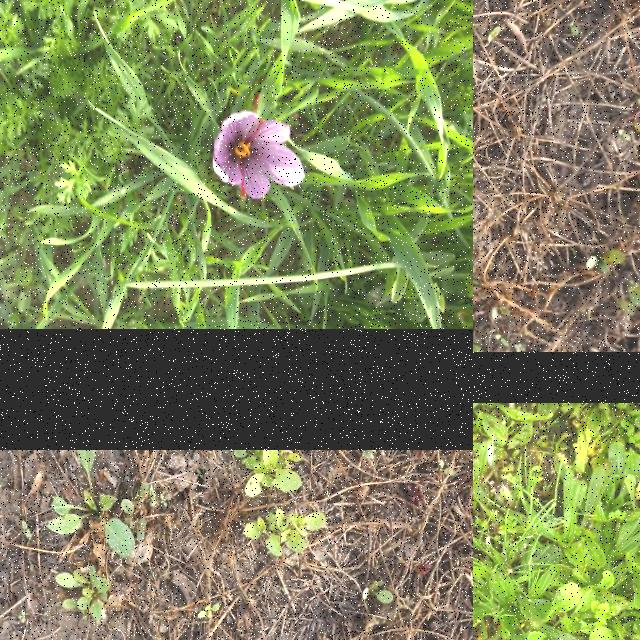flower: (212, 98, 306, 200)
